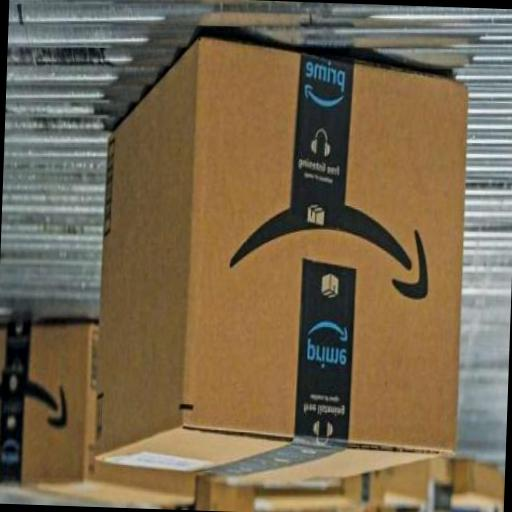undamaged: (88, 40, 474, 492)
